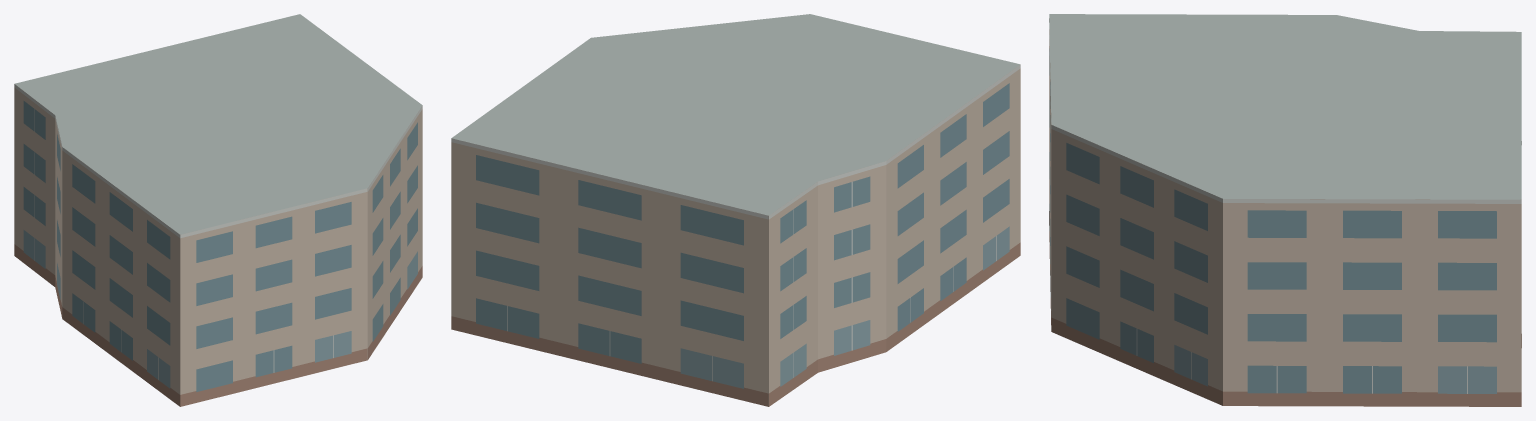
Rendered from survey-upis-32940315.glb.
3 views of the same model, side by side, from view 1: azimuth 30°, elevation 25°; view 2: azimuth 150°, elevation 25°; view 3: azimuth 270°, elevation 25° (orthographic). The views are drawn at different scales.
Visible parts, largest first — view 1: survey-upis-32940315.tmp; view 2: survey-upis-32940315.tmp; view 3: survey-upis-32940315.tmp.
Part boxes in pixels (bbox=[...]): survey-upis-32940315.tmp: bbox=[14, 14, 422, 406]; survey-upis-32940315.tmp: bbox=[451, 14, 1020, 406]; survey-upis-32940315.tmp: bbox=[1049, 14, 1521, 406].
Size of the model in its own units: 23.08 by 12 by 24.82.
